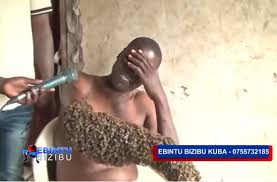hand: (125, 42, 171, 95)
